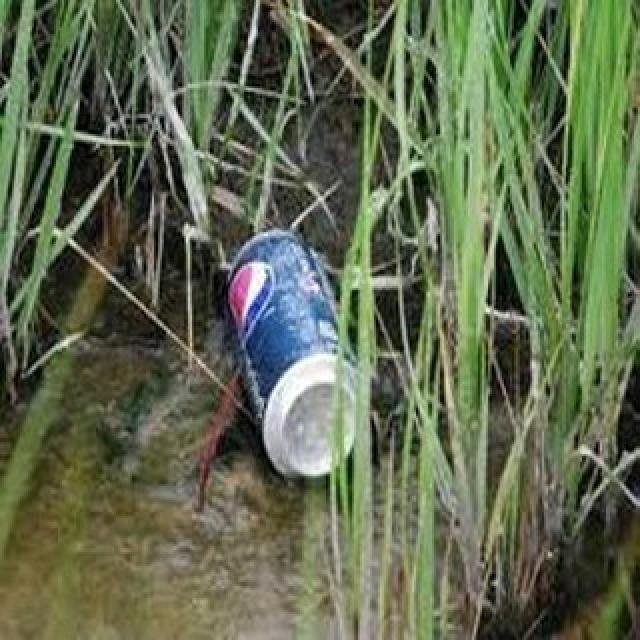can: (225, 236, 374, 477)
